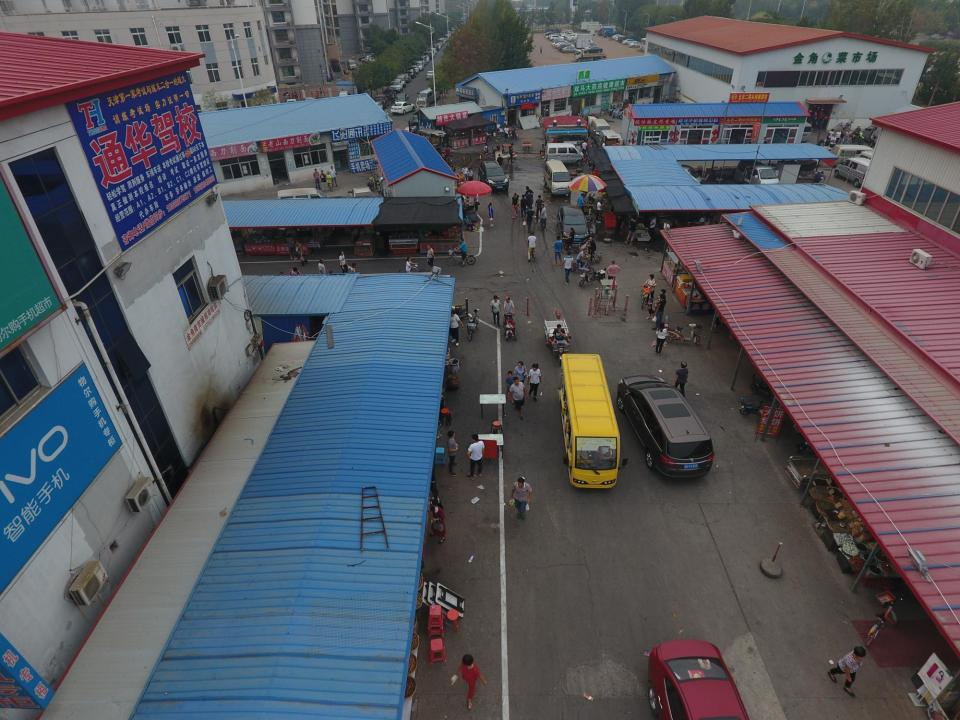car: (615, 374, 714, 478), (556, 352, 626, 489), (555, 206, 590, 244), (478, 160, 509, 192), (402, 116, 444, 136), (347, 185, 374, 204)
truck: (540, 116, 602, 140)
van: (648, 158, 702, 188), (275, 188, 336, 212), (732, 159, 780, 188), (543, 160, 572, 198), (545, 142, 584, 166), (413, 128, 447, 150), (595, 128, 625, 150), (590, 118, 611, 139)
